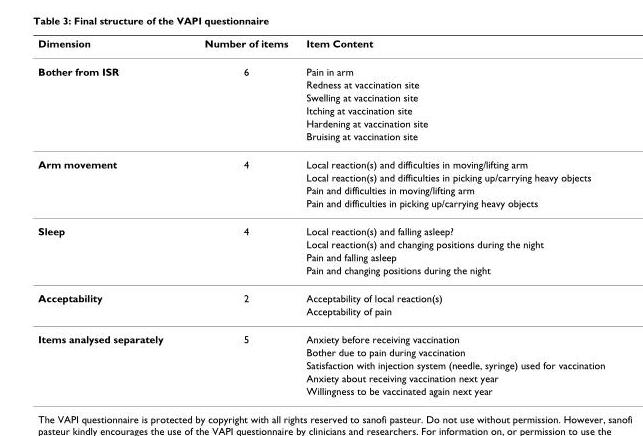table: (37, 36, 604, 396)
table column: (296, 36, 604, 396), (37, 36, 183, 396), (183, 36, 296, 396)
table column header: (37, 36, 604, 57)
table row: (37, 36, 604, 57), (37, 149, 604, 170), (37, 216, 604, 237), (37, 283, 604, 304), (37, 324, 604, 345), (37, 57, 604, 77), (37, 129, 604, 149), (37, 196, 604, 216), (37, 263, 604, 283), (37, 304, 604, 324), (37, 77, 604, 90), (37, 90, 604, 103), (37, 103, 604, 116), (37, 116, 604, 129), (37, 170, 604, 183), (37, 183, 604, 196), (37, 237, 604, 250), (37, 250, 604, 263), (37, 345, 604, 358), (37, 358, 604, 371), (37, 371, 604, 384), (37, 384, 604, 396)
table spanning cell: (37, 57, 183, 149), (37, 324, 183, 396), (37, 149, 183, 216), (37, 216, 183, 283), (37, 283, 183, 324)
